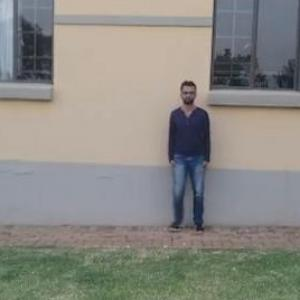follow: (167, 78, 212, 233)
